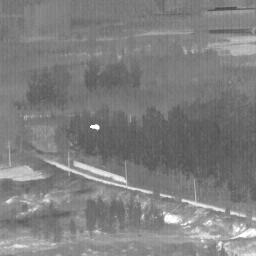Target: (89, 122, 101, 131)
